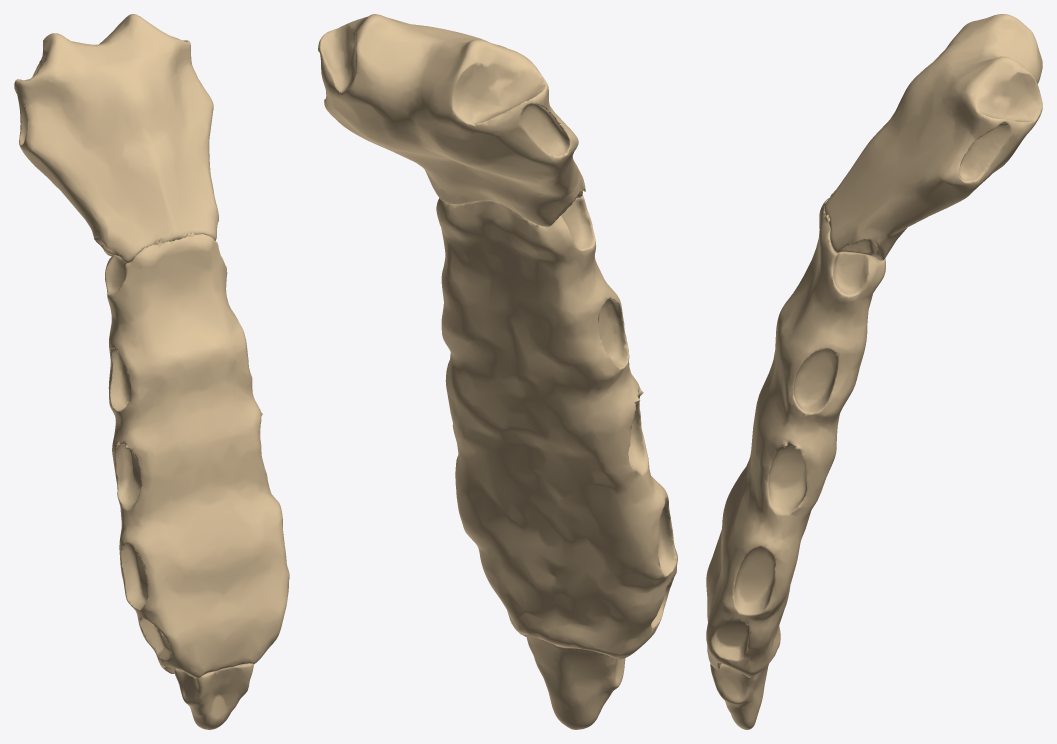
The model's file is explorar-sternum.glb.
The picture shows the model from 3 angles, left to right: view 1: azimuth 30°, elevation 25°; view 2: azimuth 150°, elevation 25°; view 3: azimuth 270°, elevation 25°; orthographic projection. The views are drawn at different scales.
Visible parts, largest first — view 1: sternum__cuerpo, sternum__manubrio, sternum__xifoides; view 2: sternum__cuerpo, sternum__manubrio, sternum__xifoides; view 3: sternum__cuerpo, sternum__manubrio, sternum__xifoides.
Boxes of the visible parts, box(x1,y1,x2,y2) form: sternum__cuerpo: box(105, 232, 289, 678); sternum__manubrio: box(14, 14, 218, 262); sternum__xifoides: box(175, 663, 253, 729); sternum__cuerpo: box(436, 195, 677, 659); sternum__manubrio: box(318, 14, 585, 226); sternum__xifoides: box(526, 635, 625, 729); sternum__cuerpo: box(706, 197, 885, 677); sternum__manubrio: box(824, 14, 1042, 260); sternum__xifoides: box(710, 663, 768, 729).
Bounding box in the file's own units: 0.0553 × 0.1773 × 0.0781.
